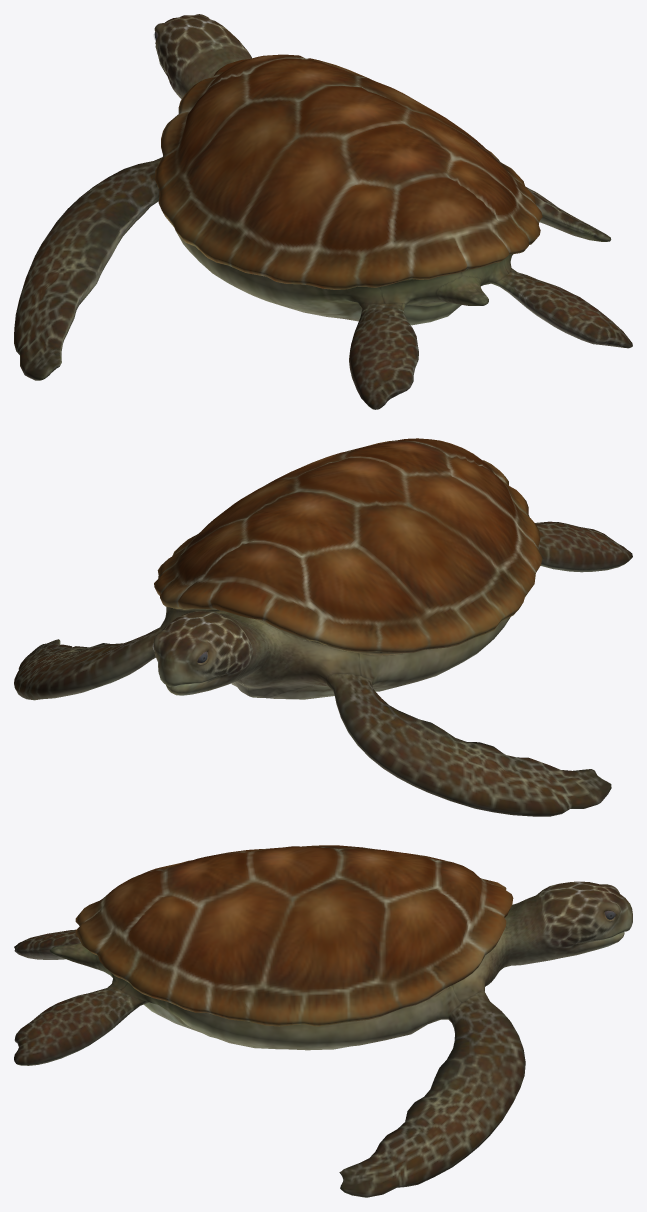
File: sea-turtle-low-poly-c92be5.glb
3 renders of one model, top to bottom at view 1: azimuth 30°, elevation 25°; view 2: azimuth 150°, elevation 25°; view 3: azimuth 270°, elevation 25°, orthographic. The views are drawn at different scales.
Visible parts, largest first — view 1: PropMesh; view 2: PropMesh; view 3: PropMesh.
Part boxes in pixels (left/top/right/bottom): PropMesh: left=14, top=14, right=632, bottom=409; PropMesh: left=14, top=438, right=632, bottom=816; PropMesh: left=14, top=845, right=632, bottom=1197.
Bounding box in the file's own units: 1.09 × 0.4204 × 1.1.
3 materials, 2 textured.
